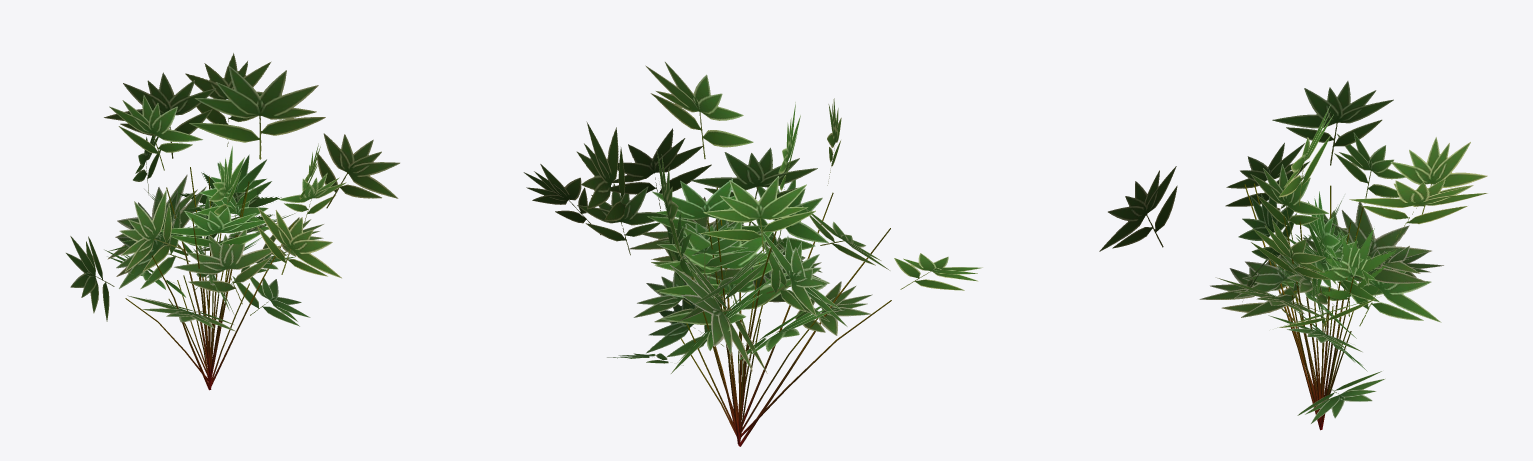
File: sasa.glb
The picture shows the model from 3 angles, left to right: view 1: azimuth 30°, elevation 25°; view 2: azimuth 150°, elevation 25°; view 3: azimuth 270°, elevation 25°; orthographic projection. The views are drawn at different scales.
Parts seen in each view (by area): view 1: v0_lod0, v2_lod0, v1_lod0; view 2: v1_lod0, v0_lod0, v2_lod0; view 3: v1_lod0, v0_lod0, v2_lod0.
Boxes of the visible parts, x1,y1,x2,y2 form: v0_lod0: [104, 66, 341, 386]; v2_lod0: [104, 53, 399, 387]; v1_lod0: [66, 95, 294, 390]; v1_lod0: [633, 102, 982, 446]; v0_lod0: [610, 62, 847, 440]; v2_lod0: [523, 121, 890, 444]; v1_lod0: [1199, 81, 1443, 430]; v0_lod0: [1099, 105, 1441, 428]; v2_lod0: [1215, 137, 1487, 428].
Size of what is drawn, in the model's own units: 1.57 by 1.26 by 1.36.
1 material, 1 textured.
